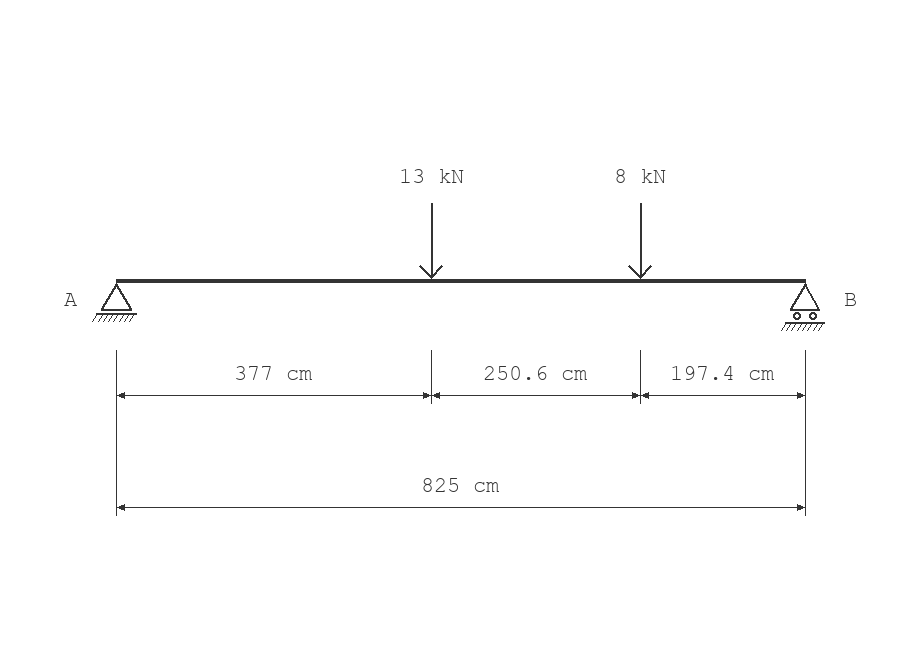pin_support: (92, 283, 137, 322)
point_load: (419, 203, 443, 279), (628, 203, 652, 279)
roller_support: (781, 283, 825, 331)
